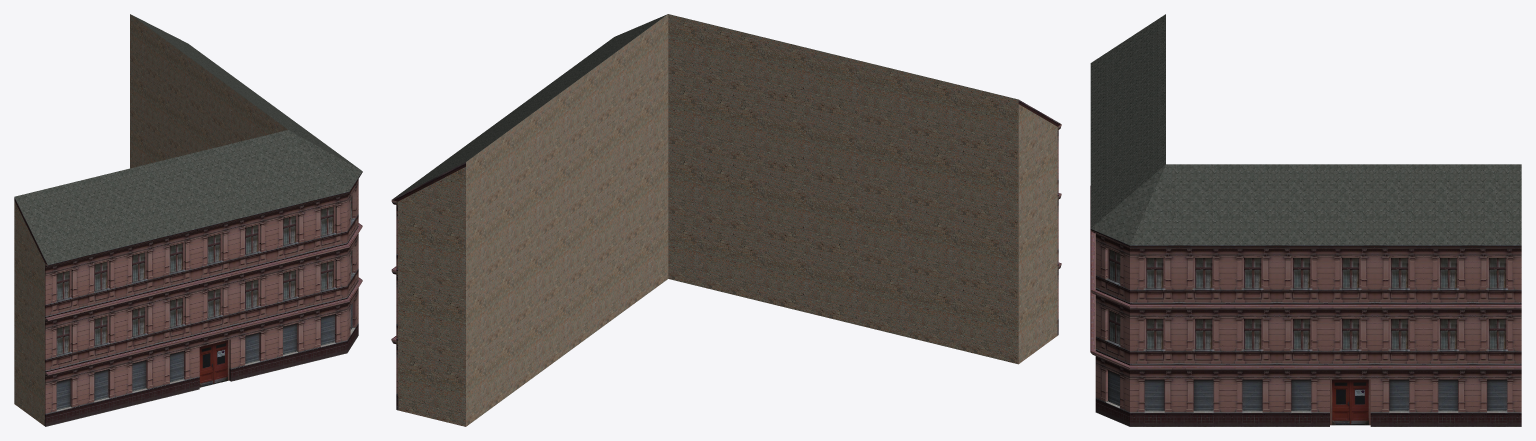
File: PBP1_Corner1.fbx
3 renders of one model, left to right at view 1: azimuth 30°, elevation 25°; view 2: azimuth 150°, elevation 25°; view 3: azimuth 270°, elevation 25°, orthographic. The views are drawn at different scales.
Parts seen in each view (by area): view 1: PBP1_Corner1; view 2: PBP1_Corner1; view 3: PBP1_Corner1.
Boxes of the visible parts, box(x1,y1,x2,y2) form: PBP1_Corner1: box(14, 14, 362, 426); PBP1_Corner1: box(391, 14, 1061, 426); PBP1_Corner1: box(1090, 14, 1521, 426).
Bounding box in the file's own units: 2139 × 2139 × 1274.
